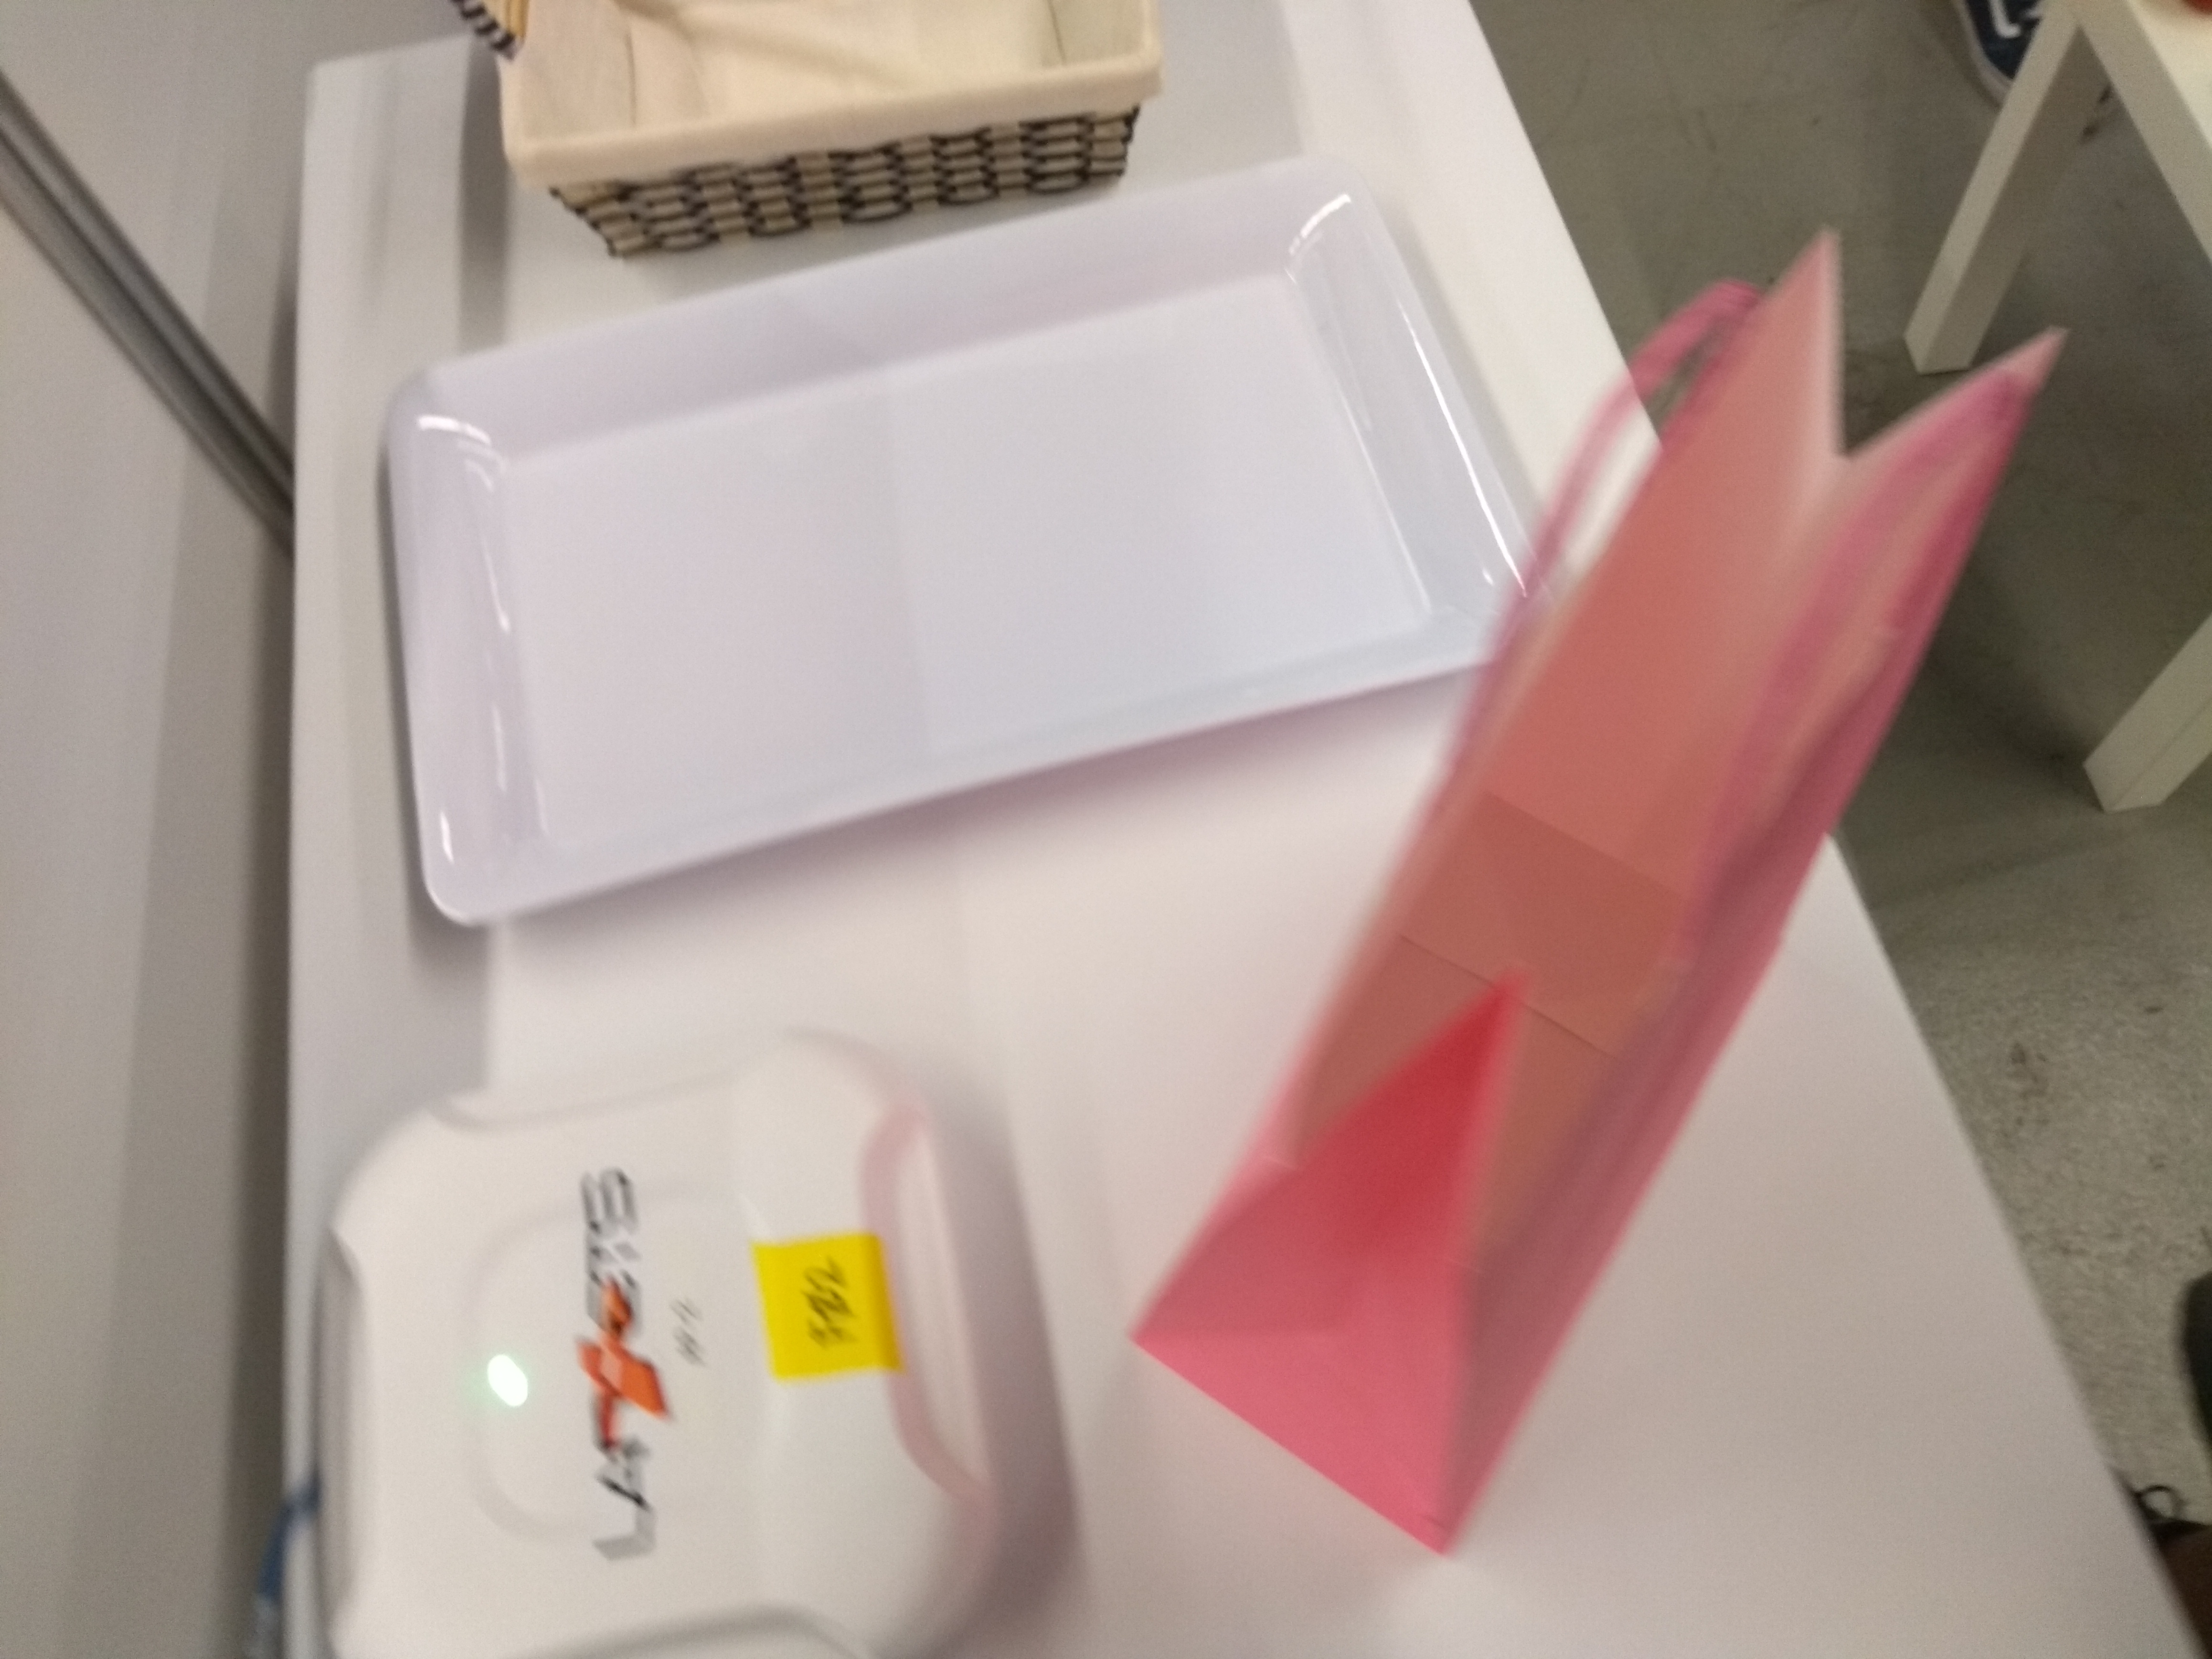basket: (470, 0, 1181, 263)
help_me_carry_opl: (1106, 242, 2062, 1565)
tray: (378, 159, 1562, 911)
